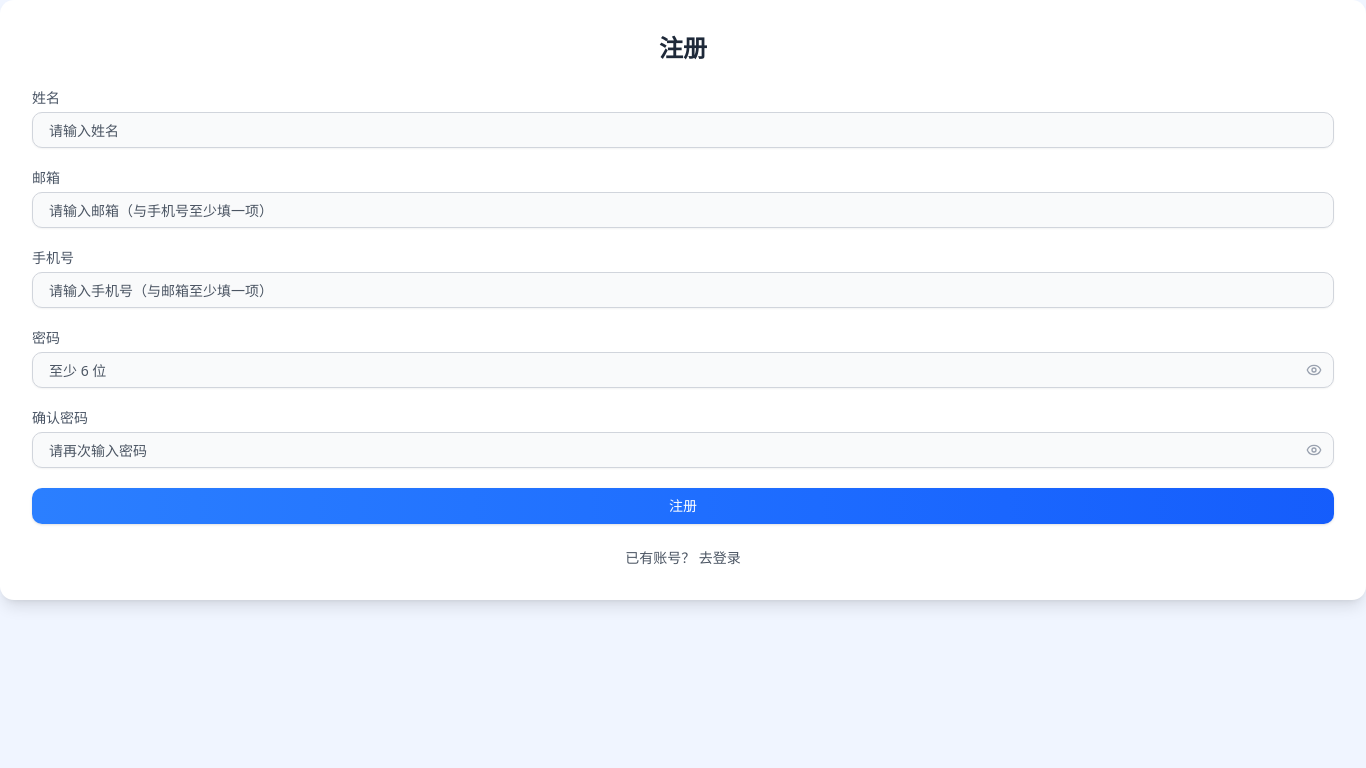
Scenario: RegisterForm › shows name too short error
Type "A" into the field labelled "姓名". click: [683, 130]
box: [32,112,1334,148]
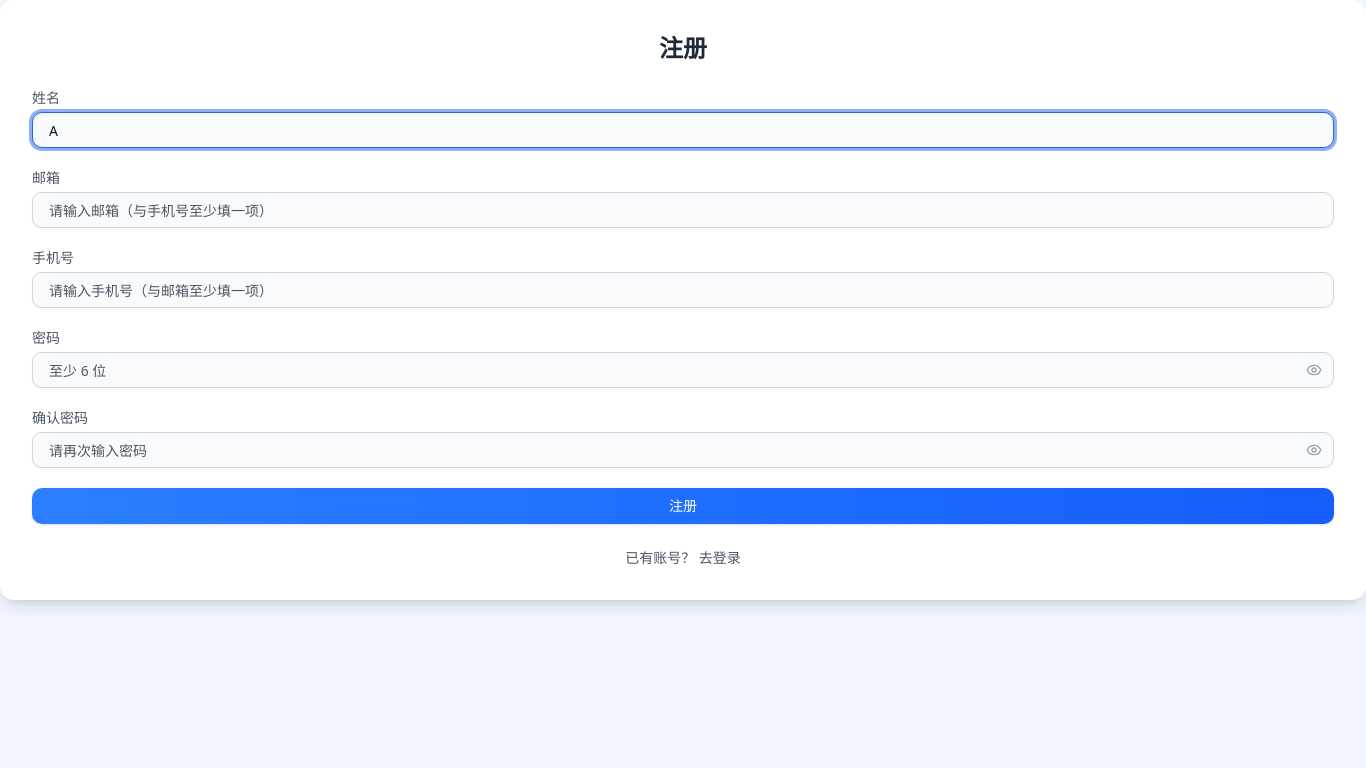
Click the button "注册". click: [683, 506]
box: [32,488,1334,524]
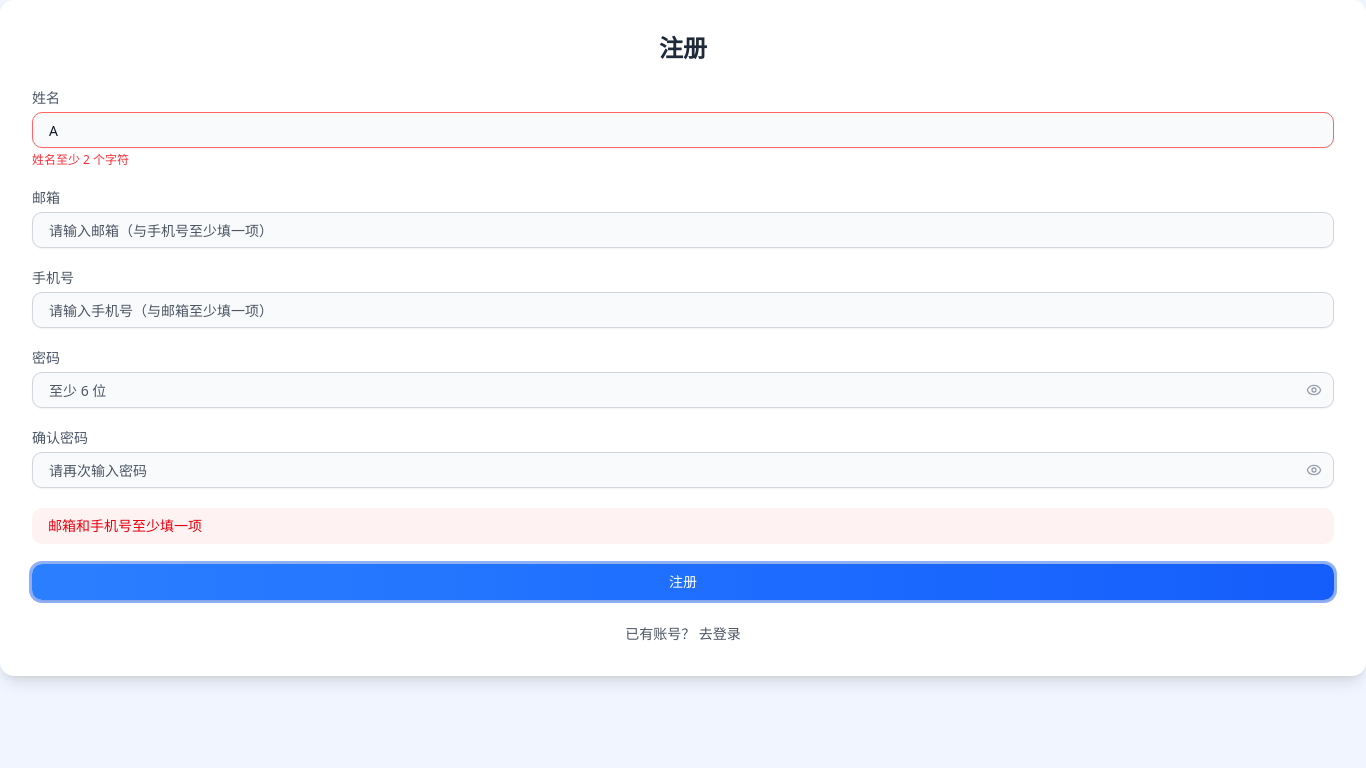
Result: the text "姓名至少 2 个字符" is shown at [32,151,129,168]
